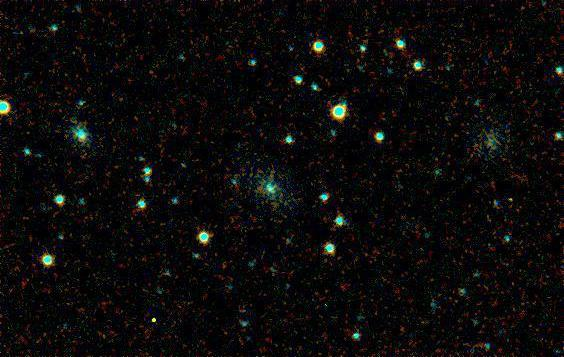star: (139, 306, 169, 336)
